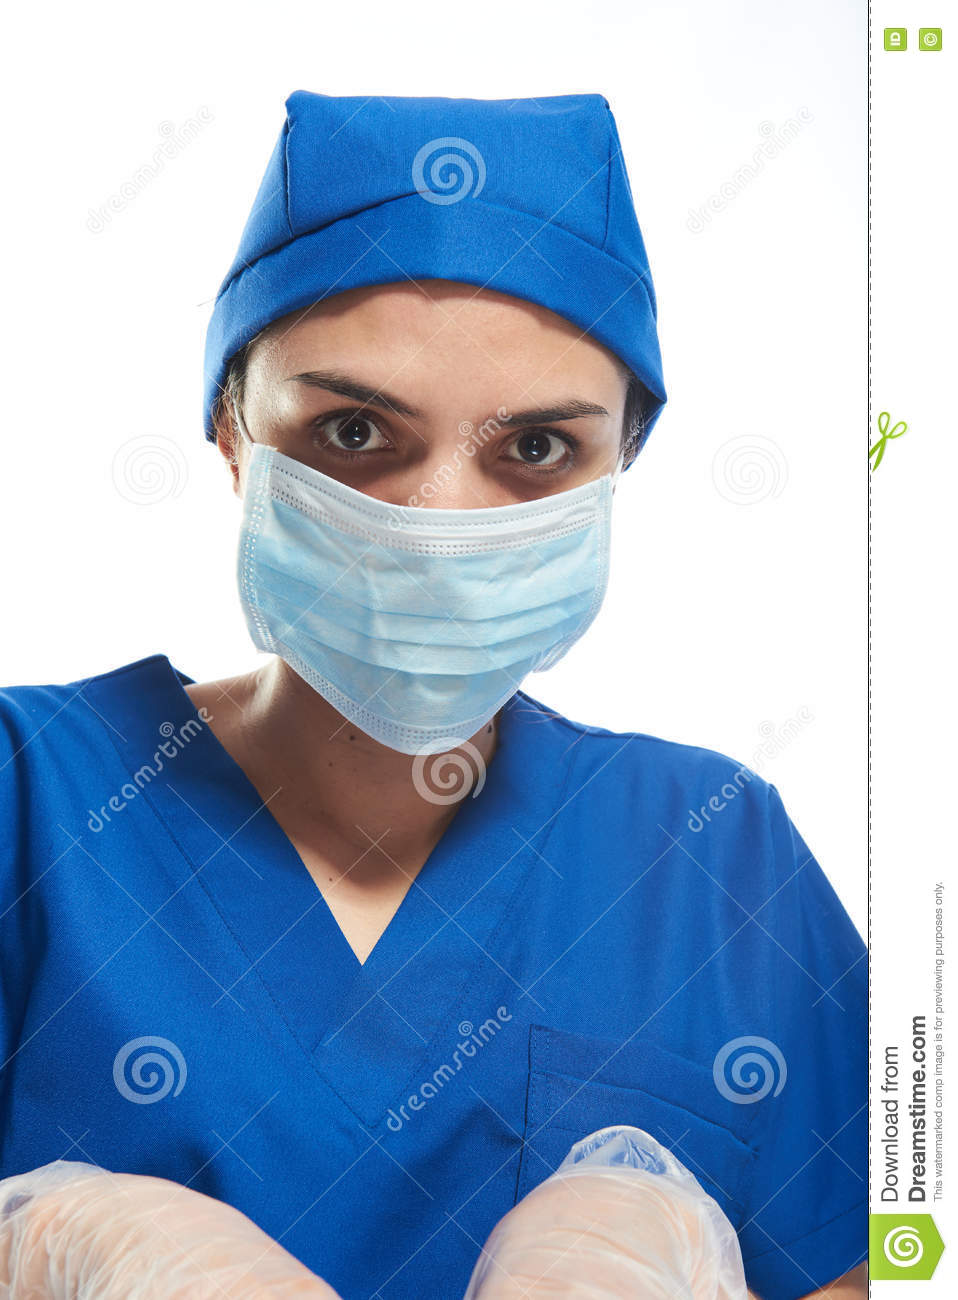mask: (219, 447, 633, 763)
